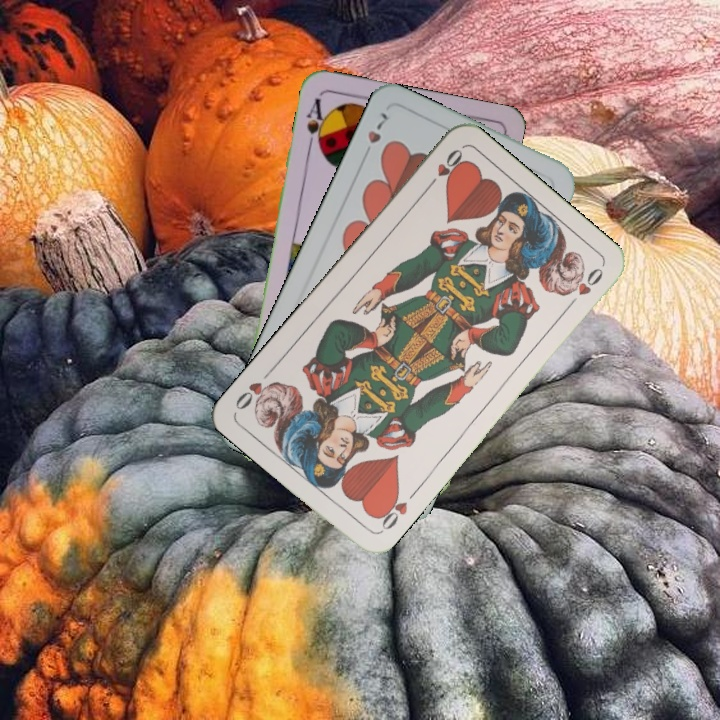H7: (358, 108, 391, 162)
HO: (422, 145, 466, 193), (372, 487, 411, 535)
SA: (303, 94, 330, 153)
